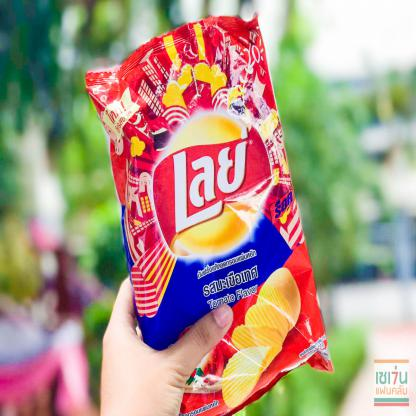potatochip: (85, 15, 333, 415)
